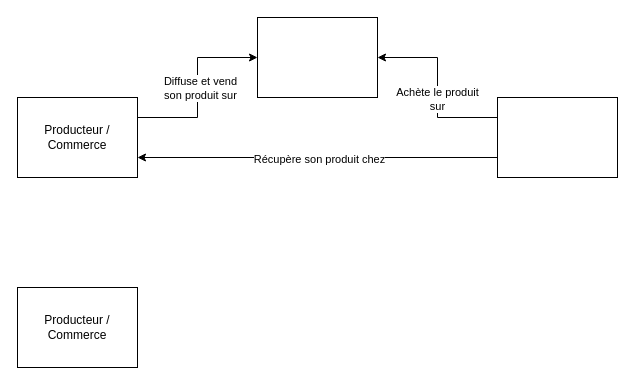
The diagram is 635 pixels wide and 385 high, and some of its shapes have lost their labels. Here are the shapes that lost their labels. From the top down, the centre of each, then its label:
the point at 317,57: Plateforme de Click And Collect
the point at 557,137: Client
